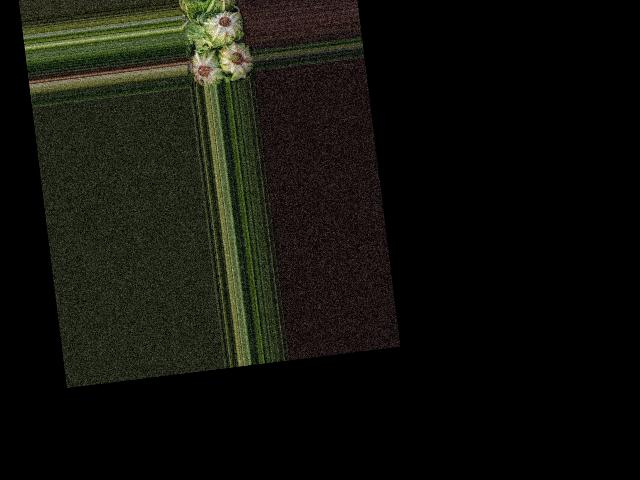lettuce: (189, 48, 224, 87)
